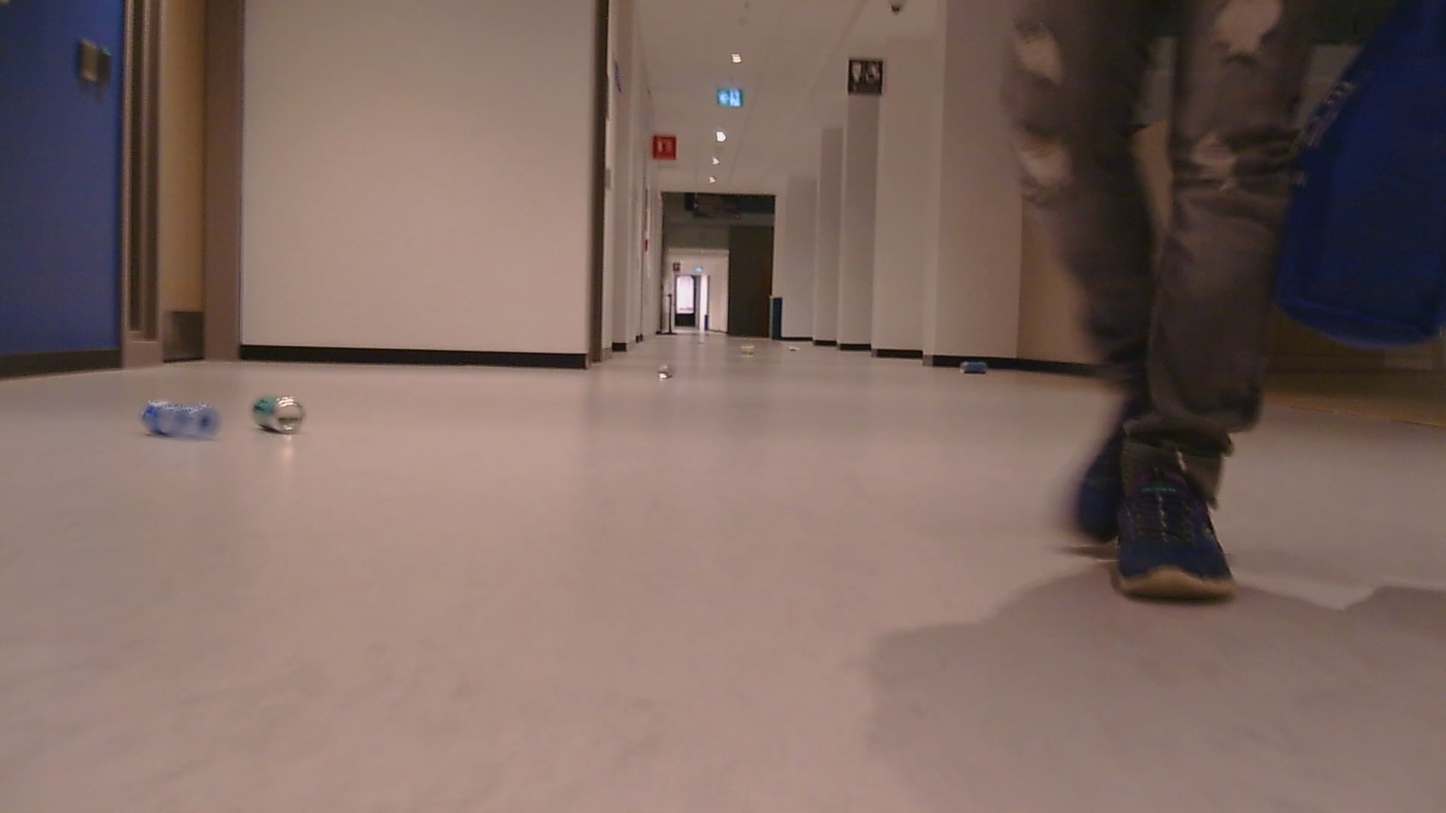carton: (130, 394, 225, 453), (249, 382, 323, 449), (646, 355, 693, 391), (962, 354, 1008, 381), (741, 330, 763, 368), (782, 334, 801, 362)
